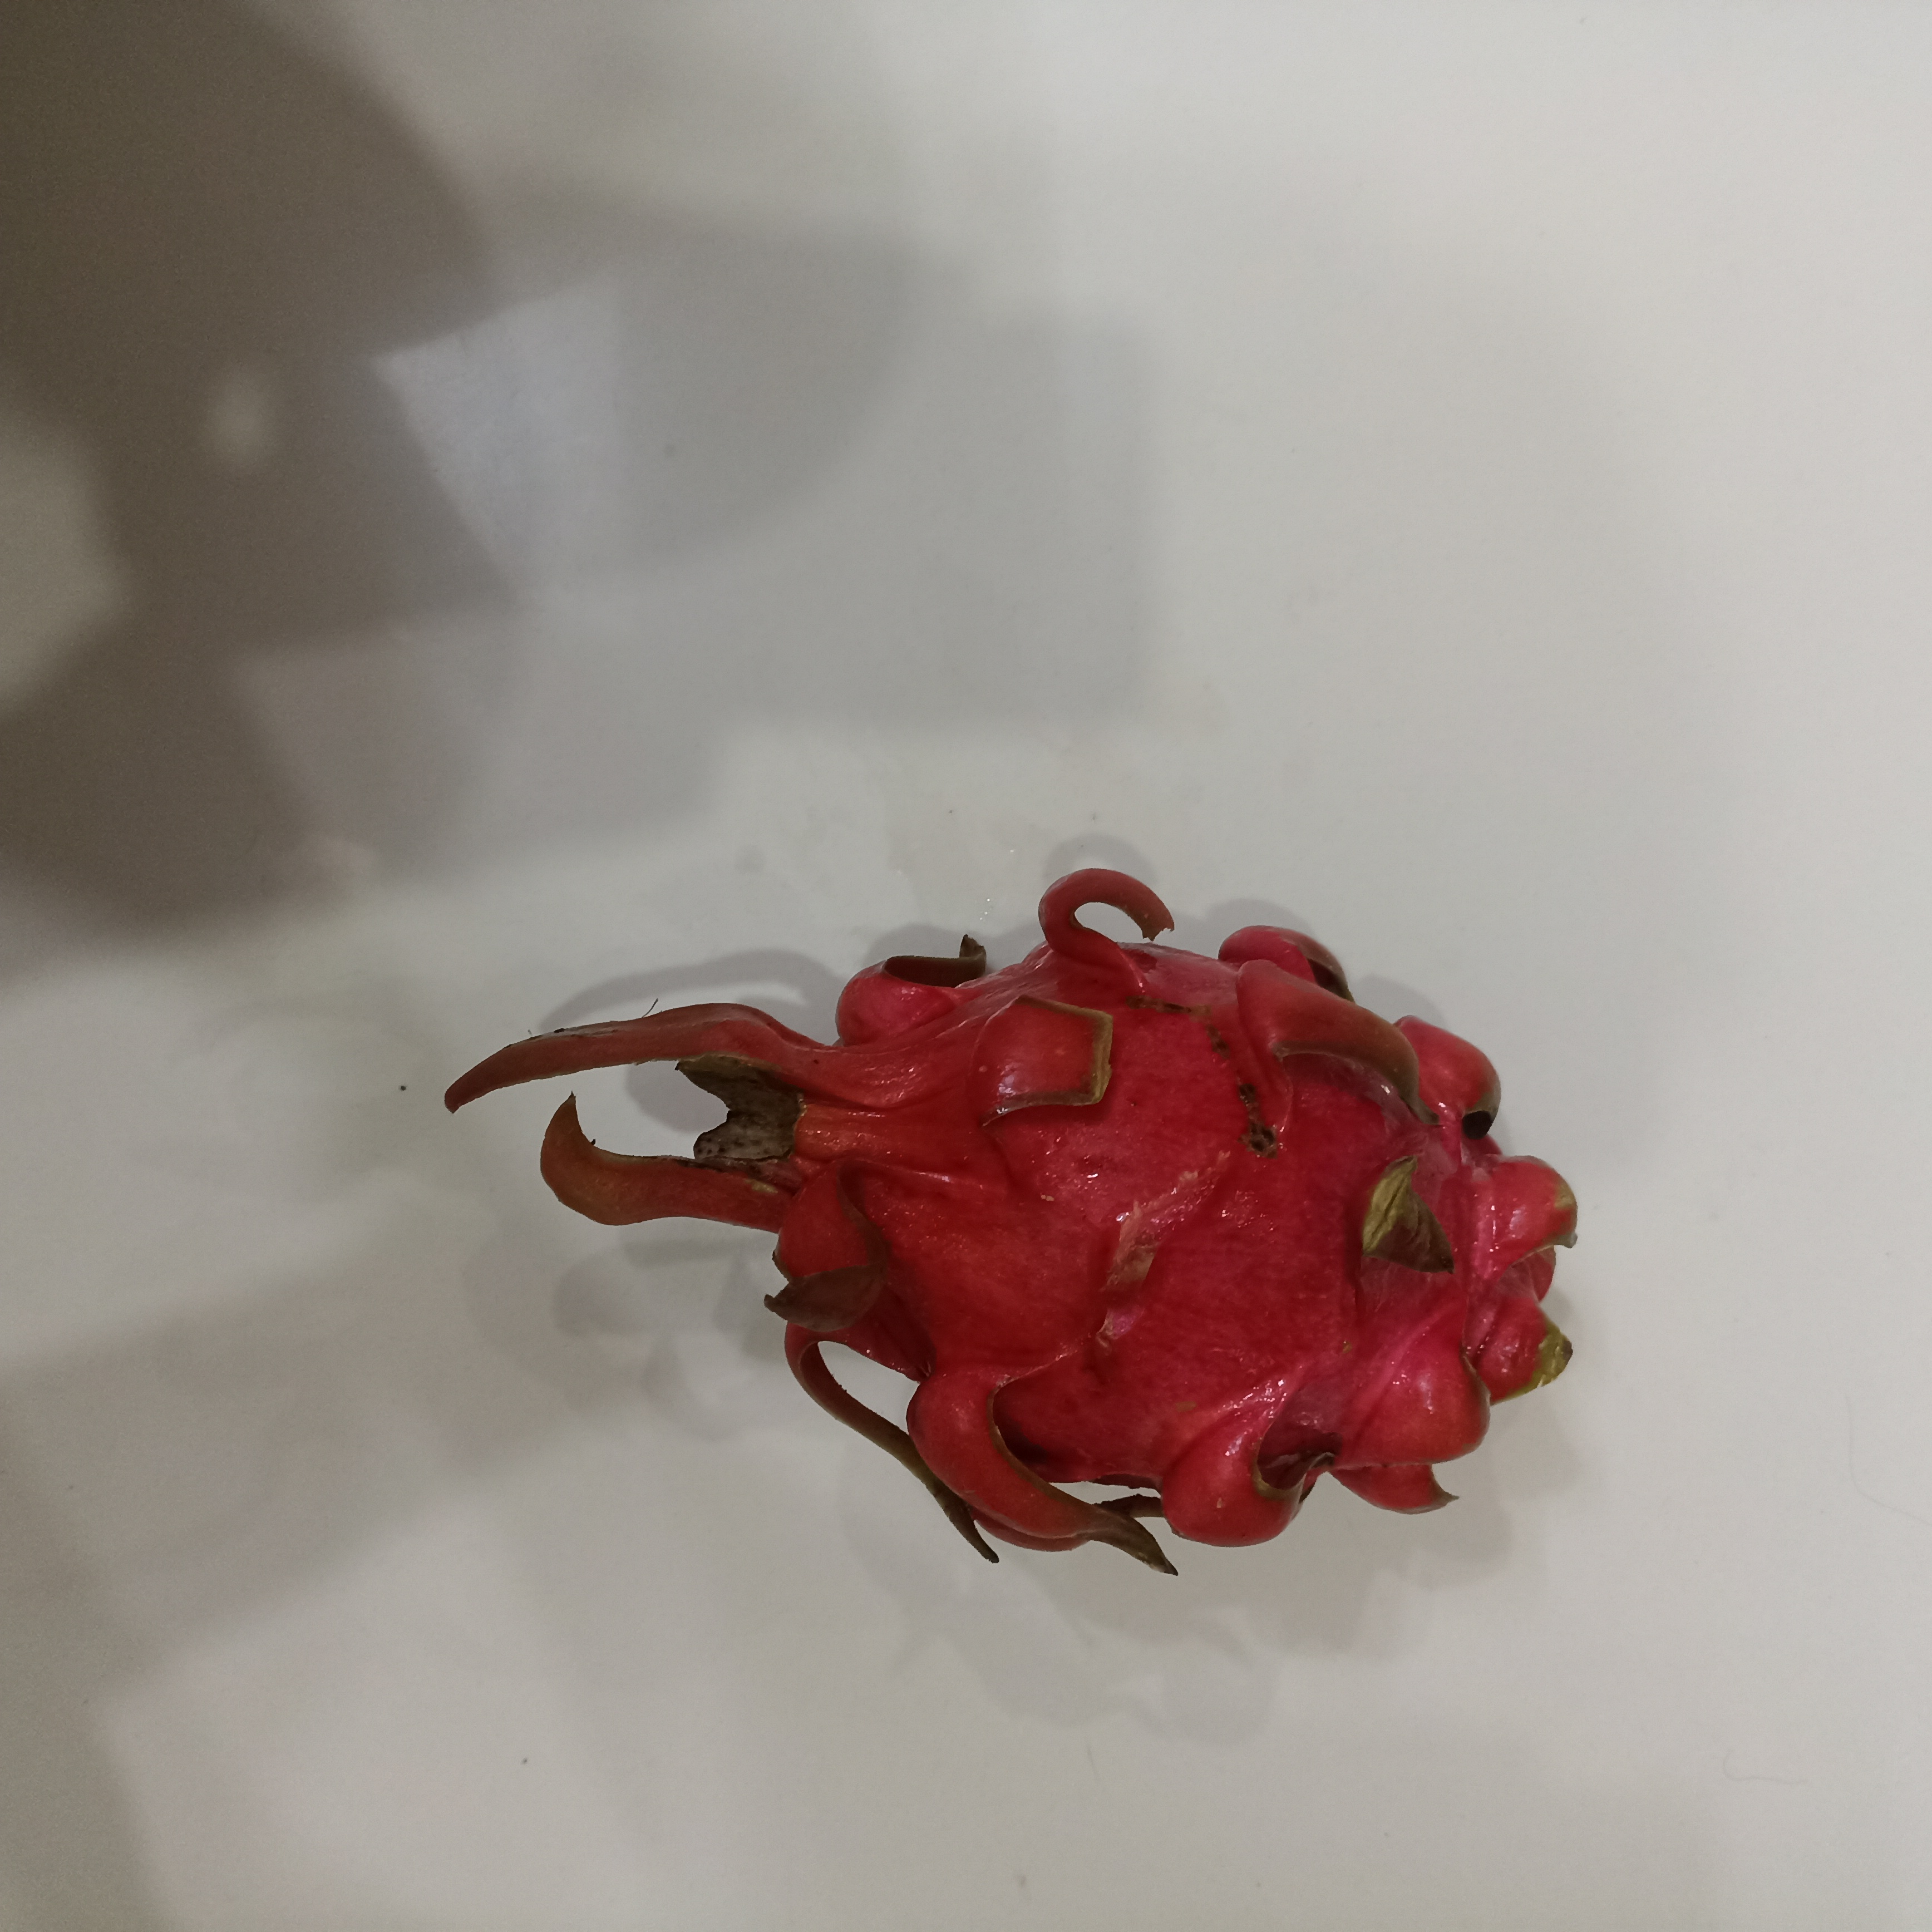Thanh long: (757, 913, 1569, 1536)
